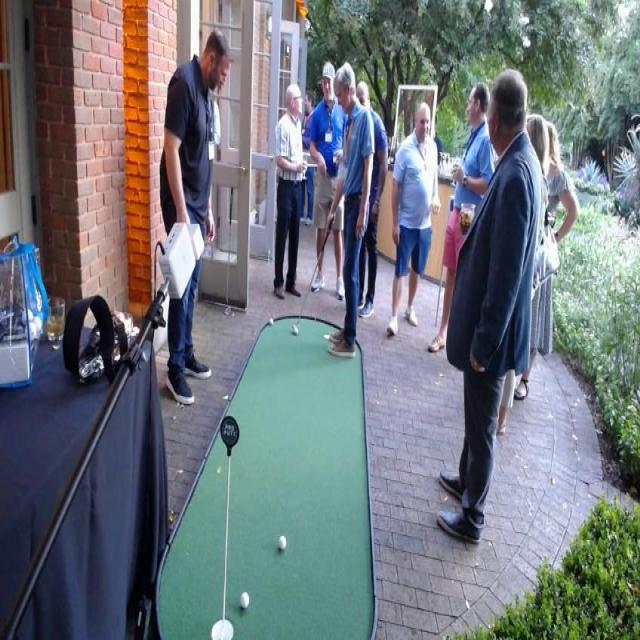GolfBall: (236, 584, 254, 614), (274, 530, 290, 554), (266, 314, 280, 326), (292, 326, 300, 336)
